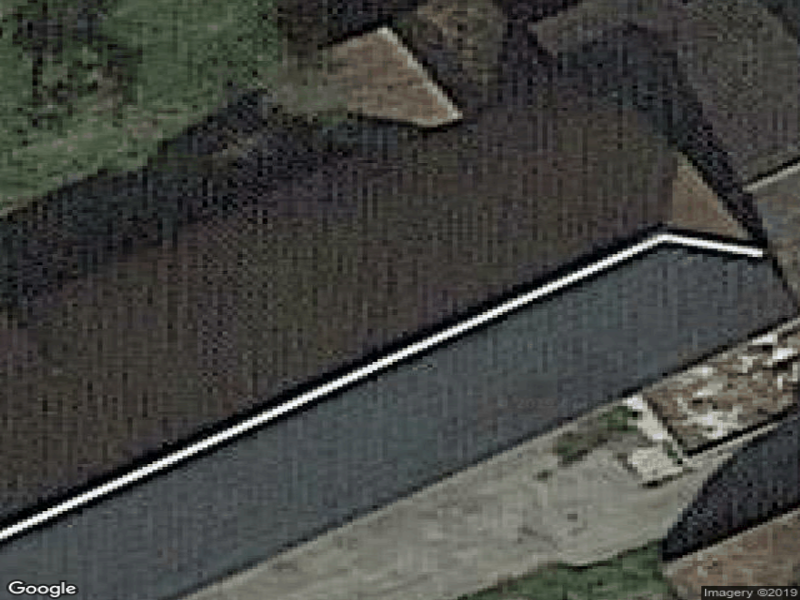pv: (1, 239, 791, 600)
